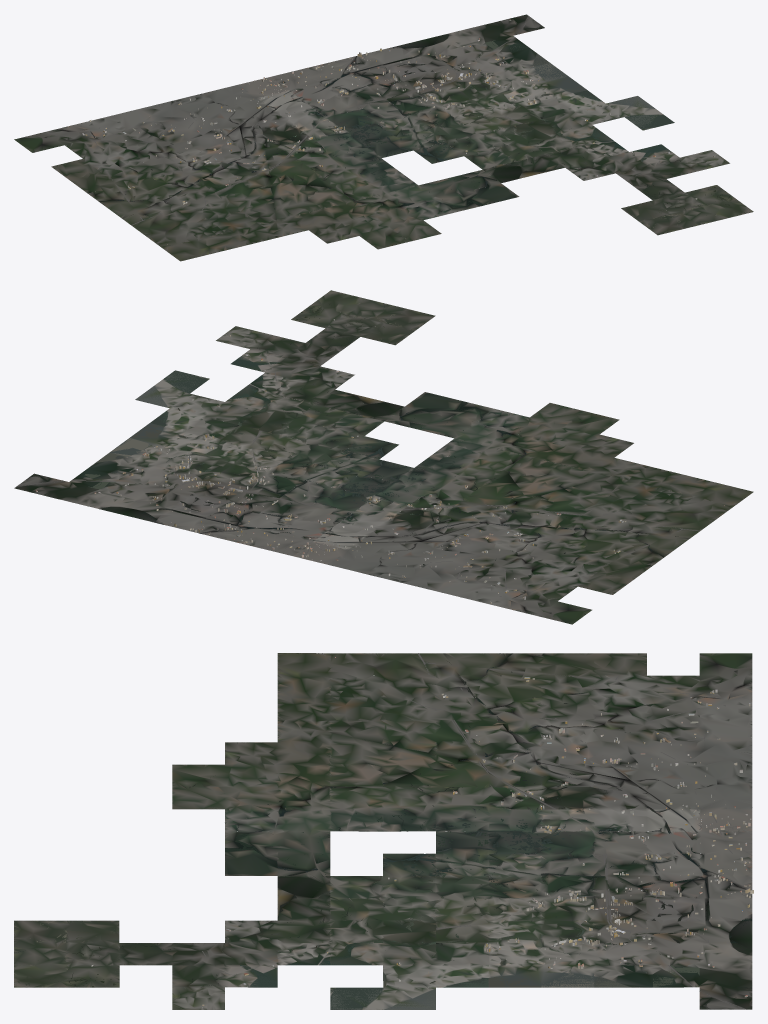
The picture shows the model from 3 angles, top to bottom: view 1: azimuth 30°, elevation 25°; view 2: azimuth 150°, elevation 25°; view 3: azimuth 270°, elevation 25°; orthographic projection. The views are drawn at different scales.
Parts seen in each view (by area): view 1: ground, water, buildings, roads; view 2: ground, water, buildings, roads; view 3: ground, water, buildings, roads.
Boxes of the visible parts, x1,y1,x2,y2 form: ground: (14, 14, 753, 261); water: (116, 22, 749, 236); buildings: (82, 19, 717, 244); roads: (93, 16, 659, 250); ground: (14, 290, 753, 624); water: (29, 294, 678, 595); buildings: (35, 319, 724, 603); roads: (16, 355, 736, 617); ground: (14, 653, 752, 1009); water: (14, 653, 752, 1009); buildings: (91, 657, 753, 1007); roads: (202, 653, 752, 1009).
Size of the model in its own units: 22425 by 127 by 19652.
